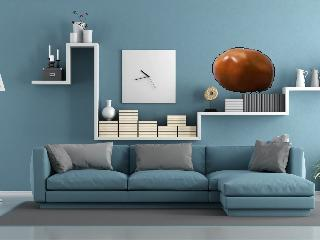potato: (208, 45, 279, 96)
